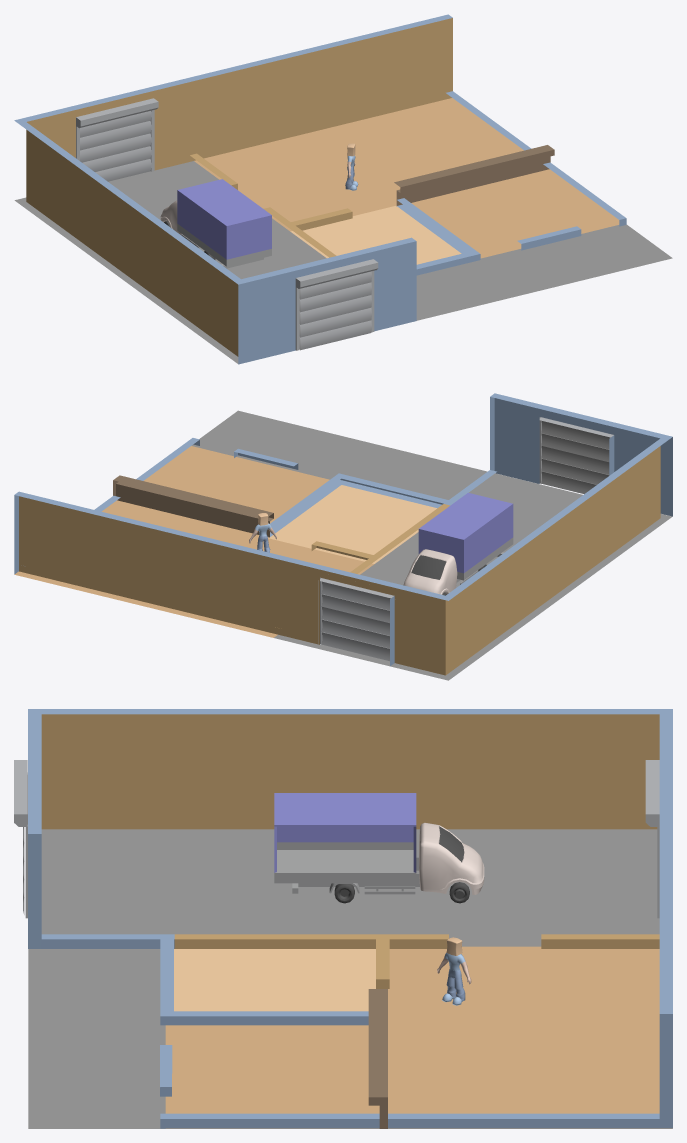
The model's file is sklad.fbx.
3 views of the same model, one above another, from view 1: azimuth 30°, elevation 25°; view 2: azimuth 150°, elevation 25°; view 3: azimuth 270°, elevation 25° (orthographic). The views are drawn at different scales.
Parts seen in each view (by area): view 1: Wall_7.001, Floor_7, cabin, Door_2_copy, Door_2_2, Shelf_bar.001, Balk_1_2, carcase_left; view 2: Wall_7.001, Floor_7, Door_2_2, cabin, Shelf_bar.001, Door_2, Door_2_7, carcase_left, Balk_1_2, carcase_front, glass, Box_2.005; view 3: Floor_7, Wall_7.001, cabin, Shelf_bar.001, Balk_1_2, carcase_left, Box_2.005, wheel_rear.
Part boxes in pixels (x1,y1,x2,y2): Wall_7.001: (14, 14, 626, 364); Floor_7: (14, 98, 672, 363); cabin: (160, 179, 271, 268); Door_2_copy: (300, 271, 371, 350); Door_2_2: (80, 111, 151, 181); Shelf_bar.001: (394, 145, 554, 205); Balk_1_2: (76, 98, 378, 350); carcase_left: (177, 191, 226, 259); Wall_7.001: (14, 393, 672, 675); Floor_7: (14, 410, 672, 680); Door_2_2: (321, 581, 390, 661); cabin: (403, 492, 513, 594); Shelf_bar.001: (113, 475, 273, 537); Door_2: (541, 420, 610, 490); Door_2_7: (541, 421, 609, 493); carcase_left: (464, 505, 513, 572); Balk_1_2: (318, 417, 613, 644); carcase_front: (418, 530, 463, 573); glass: (411, 555, 445, 579); Box_2.005: (249, 513, 276, 552); Floor_7: (28, 829, 672, 1128); Wall_7.001: (28, 709, 672, 1128); cabin: (274, 793, 484, 894); Shelf_bar.001: (368, 989, 387, 1128); Balk_1_2: (14, 760, 659, 918); carcase_left: (277, 826, 413, 842); Box_2.005: (437, 937, 471, 1005); wheel_rear: (334, 882, 469, 903).
Bounding box in the file's own units: 1911 × 336 × 1745.
